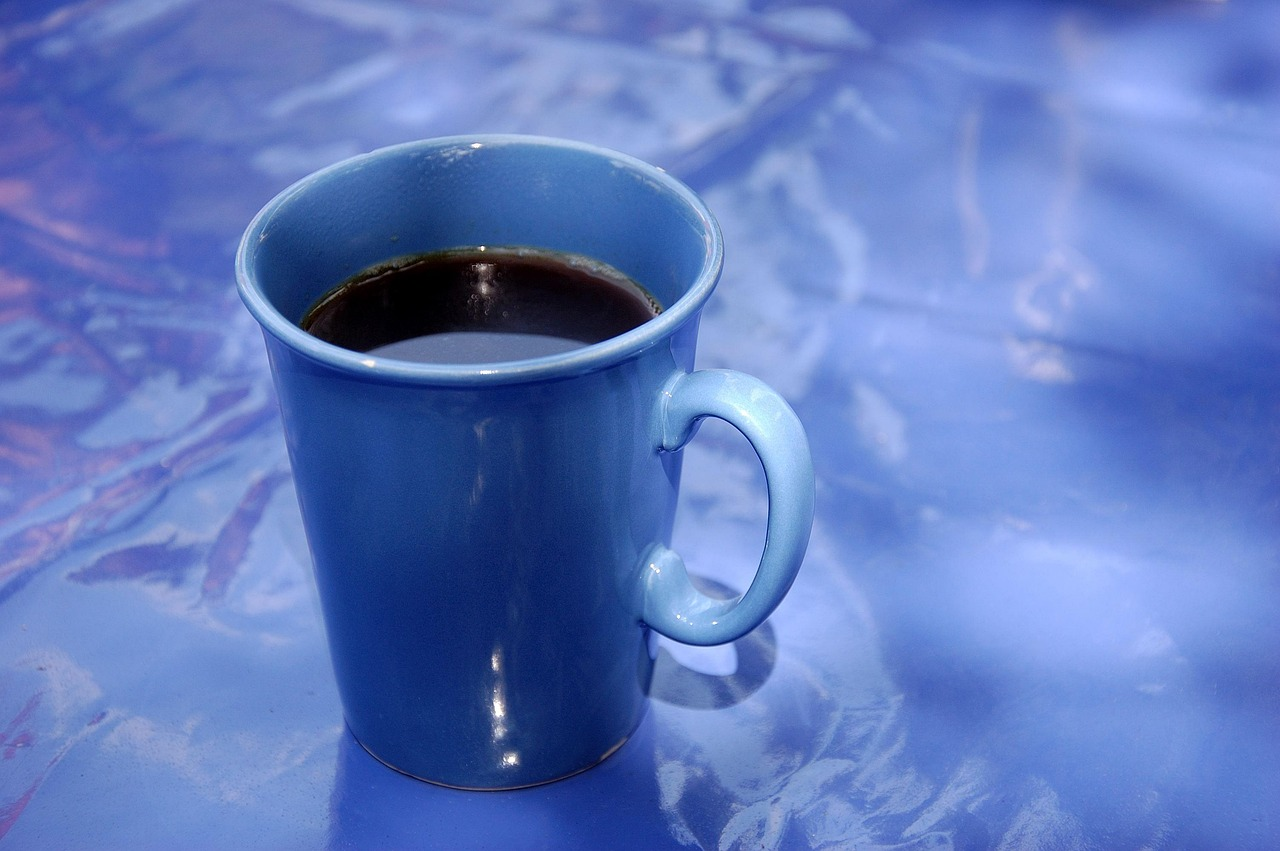mug: (205, 129, 883, 762)
